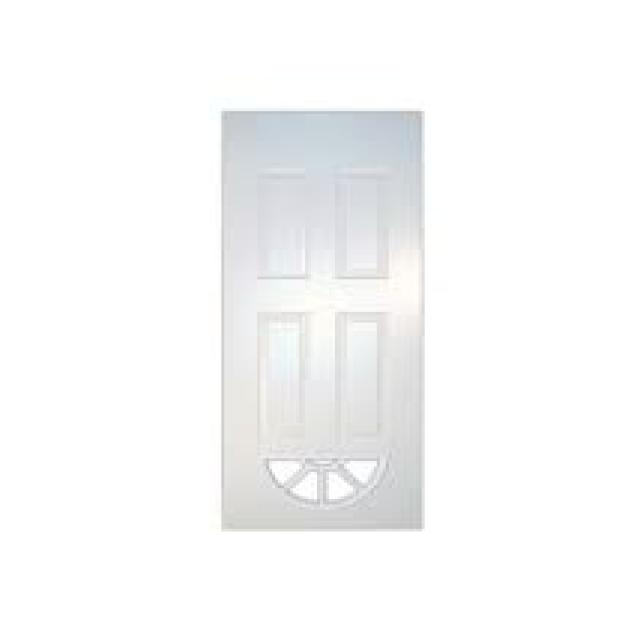door: (221, 111, 425, 532)
